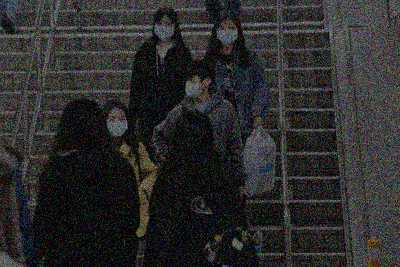with_mask: (105, 114, 128, 138), (215, 23, 239, 45), (153, 18, 175, 42), (184, 75, 203, 100)
